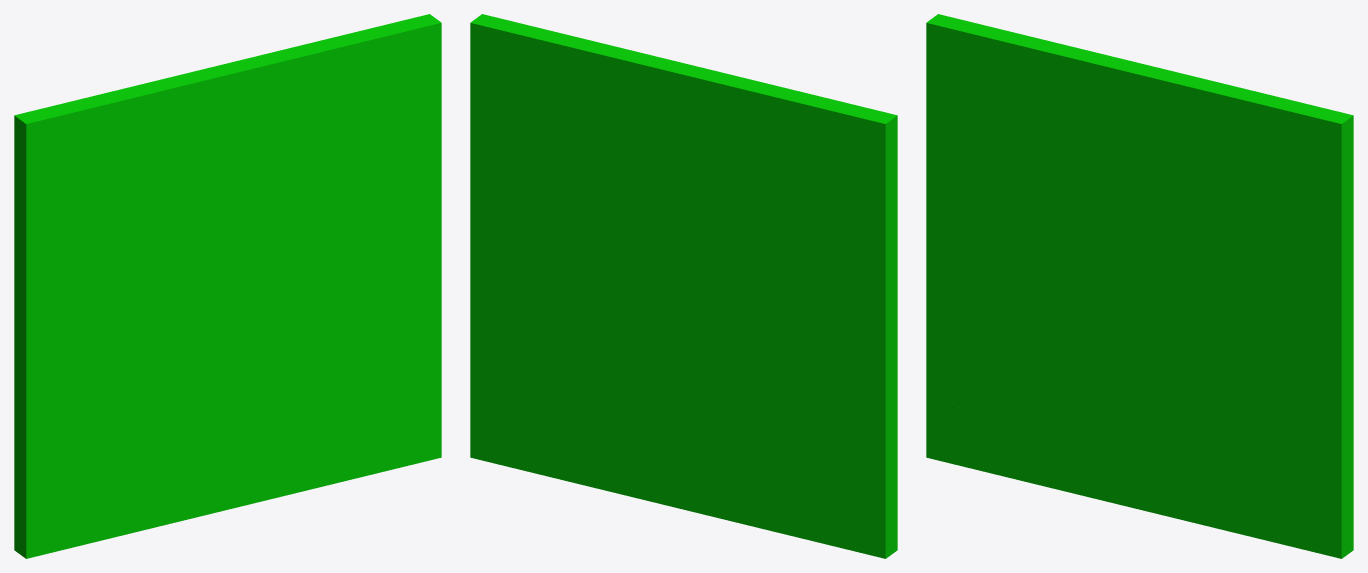
The picture shows the model from 3 angles, left to right: view 1: azimuth 30°, elevation 25°; view 2: azimuth 150°, elevation 25°; view 3: azimuth 330°, elevation 25°; orthographic projection.
Parts seen in each view (by area): view 1: piece88, piece170, piece87, piece365, piece382, piece353, piece379, piece89, piece60, piece42, piece132, piece0 (+162 smaller); view 2: piece302, piece88, piece371, piece170, piece291, piece212, piece87, piece341, piece365, piece353, piece113, piece95 (+164 smaller); view 3: piece353, piece88, piece170, piece382, piece365, piece379, piece351, piece87, piece60, piece212, piece271, piece299 (+160 smaller).
Boxes of the visible parts, left/top/right/bottom form: piece88: left=14, top=98, right=106, bottom=147; piece170: left=253, top=45, right=310, bottom=109; piece87: left=14, top=120, right=70, bottom=179; piece365: left=300, top=39, right=344, bottom=103; piece382: left=401, top=20, right=441, bottom=75; piece353: left=405, top=72, right=441, bottom=123; piece379: left=383, top=121, right=441, bottom=162; piece89: left=14, top=384, right=67, bottom=429; piece60: left=68, top=361, right=107, bottom=410; piece42: left=14, top=296, right=53, bottom=352; piece132: left=16, top=212, right=66, bottom=256; piece0: left=14, top=421, right=51, bottom=471; piece302: left=470, top=16, right=517, bottom=74; piece88: left=815, top=95, right=897, bottom=145; piece371: left=508, top=23, right=575, bottom=63; piece170: left=600, top=46, right=665, bottom=101; piece291: left=470, top=119, right=524, bottom=165; piece212: left=470, top=420, right=521, bottom=469; piece87: left=848, top=119, right=897, bottom=172; piece341: left=644, top=59, right=691, bottom=111; piece365: left=568, top=39, right=612, bottom=91; piece353: left=470, top=71, right=502, bottom=121; piece113: left=801, top=95, right=850, bottom=150; piece95: left=770, top=90, right=813, bottom=147; piece353: left=1305, top=162, right=1353, bottom=224; piece88: left=926, top=14, right=1008, bottom=66; piece170: left=1158, top=72, right=1223, bottom=126; piece382: left=1301, top=118, right=1353, bottom=173; piece365: left=1200, top=84, right=1250, bottom=148; piece379: left=1283, top=205, right=1348, bottom=244; piece351: left=1309, top=228, right=1353, bottom=289; piece87: left=926, top=26, right=970, bottom=89; piece60: left=968, top=291, right=1007, bottom=345; piece212: left=1298, top=515, right=1353, bottom=558; piece271: left=1314, top=473, right=1353, bottom=531; piece299: left=1318, top=375, right=1353, bottom=444.
Bounding box in the file's own units: 1 × 1 × 0.05.
